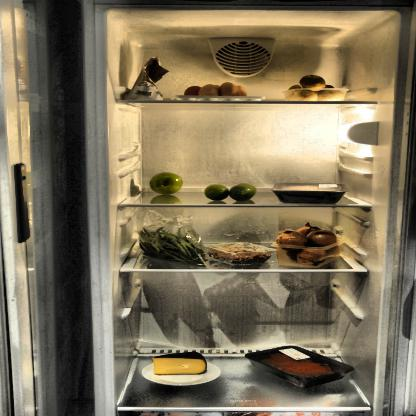apple: (148, 169, 185, 196)
beef: (260, 348, 337, 387)
cheese: (150, 353, 210, 377)
eggs: (183, 81, 250, 101)
green_beans: (132, 217, 210, 265)
lime: (203, 183, 258, 202)
onion: (274, 226, 345, 268)
potato: (286, 74, 343, 102)
shrimp: (209, 239, 274, 265)
